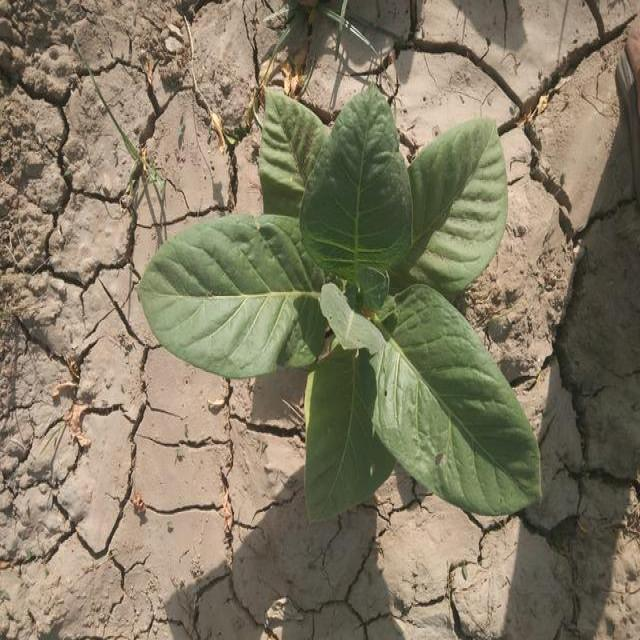crop: (136, 84, 546, 519)
